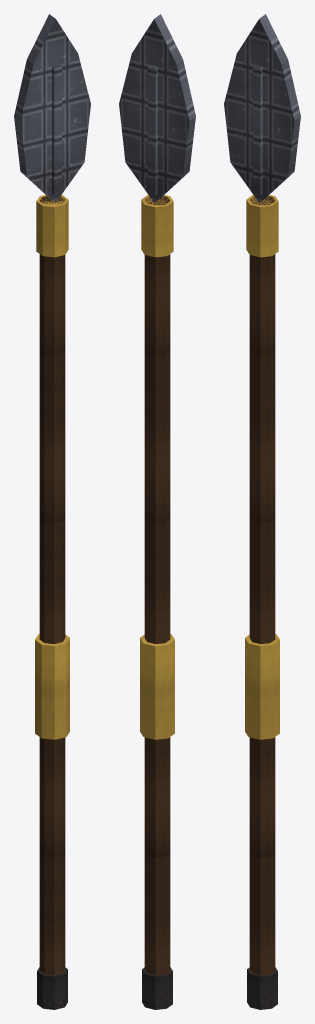
File: valkyr_spear.glb
3 views of the same model, side by side, from view 1: azimuth 30°, elevation 25°; view 2: azimuth 150°, elevation 25°; view 3: azimuth 330°, elevation 25° (orthographic).
Visible parts, largest first — view 1: valkyr_spear; view 2: valkyr_spear; view 3: valkyr_spear.
Boxes of the visible parts, x1,y1,x2,y2 form: valkyr_spear: (14, 14, 90, 1009); valkyr_spear: (119, 14, 195, 1009); valkyr_spear: (224, 14, 300, 1009).
Size of the model in its own units: 0.22 by 2.95 by 0.0887.
Materials: 4 (4 with a texture image).
